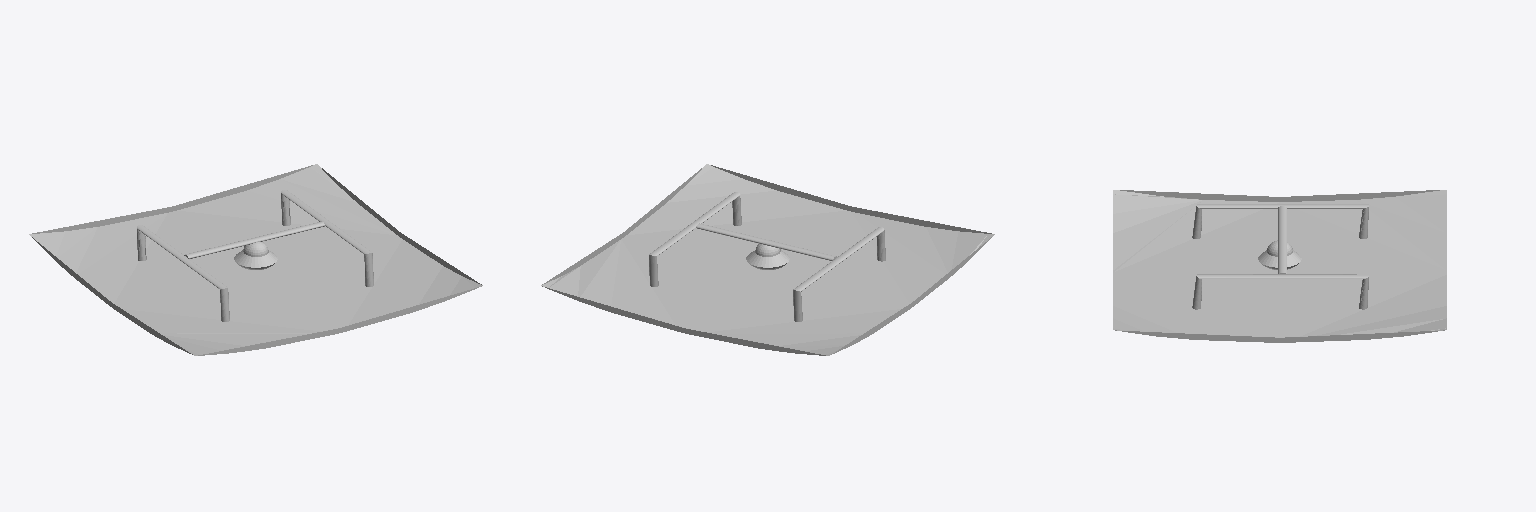
File: lamp.obj
The picture shows the model from 3 angles: view 1: azimuth 30°, elevation 25°; view 2: azimuth 150°, elevation 25°; view 3: azimuth 270°, elevation 25°; orthographic projection.
Parts seen in each view (by area): view 1: Lamp; view 2: Lamp; view 3: Lamp.
Boxes of the visible parts, box(x1,y1,x2,y2) form: Lamp: box(29, 164, 482, 355); Lamp: box(541, 164, 994, 355); Lamp: box(1113, 190, 1446, 342).
Bounding box in the file's own units: 1.5 × 0.1652 × 1.5.